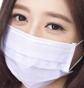with_mask: (1, 1, 84, 88)
